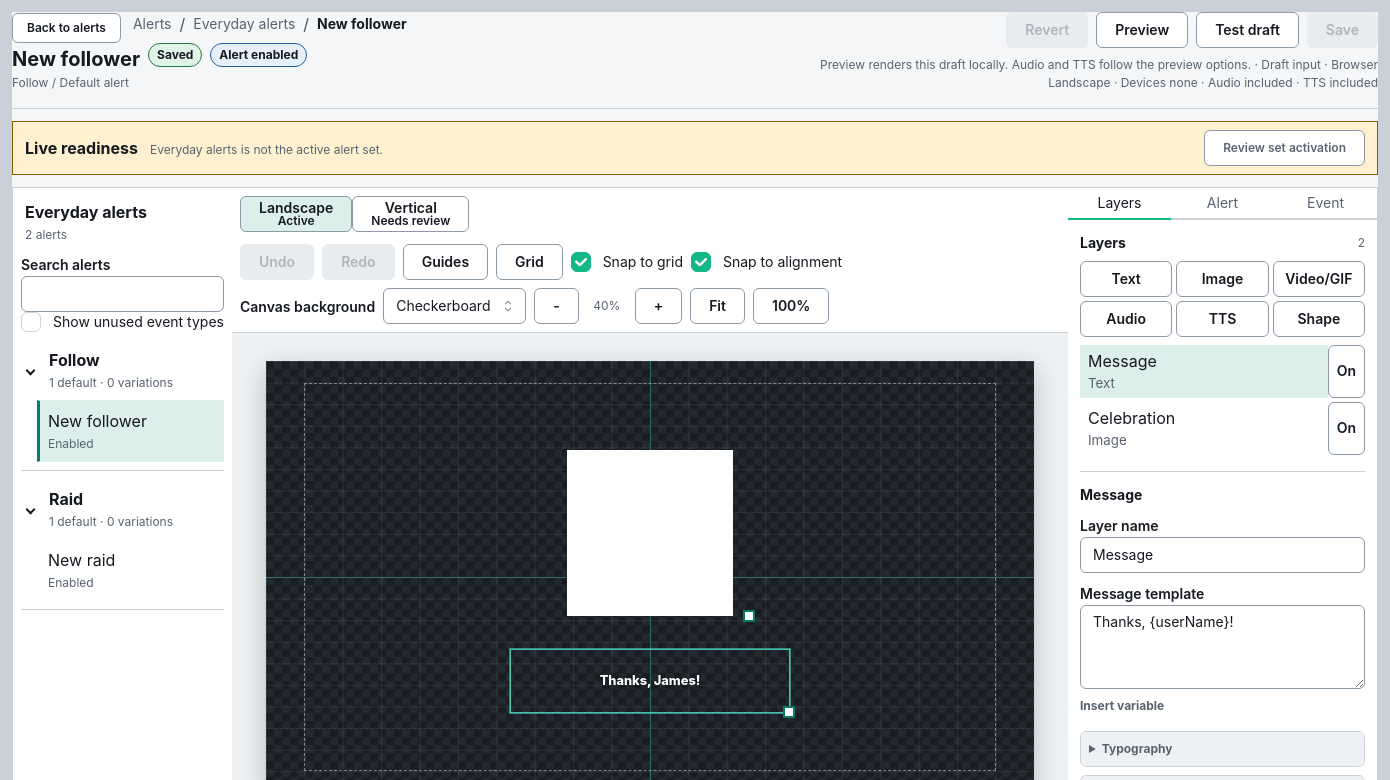
Test: AlertEditorPage › records the displayed generated reference once for a page failure
Replace the text in the text box labelled "Message template" with "Retained diagnostic draft": {"x": 1222, "y": 647} [1080,605,1365,689]
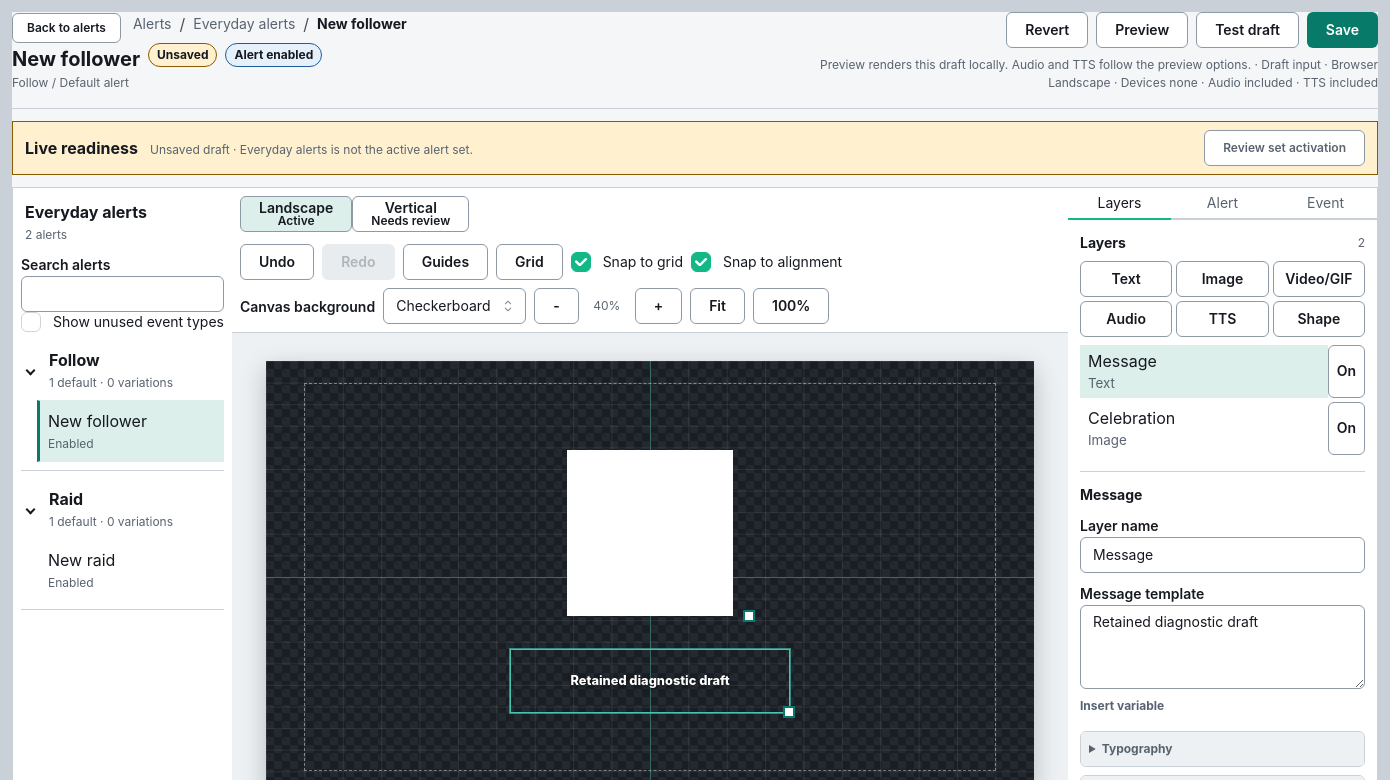
Click the button "Save": {"x": 1342, "y": 30} [1307,12,1378,48]
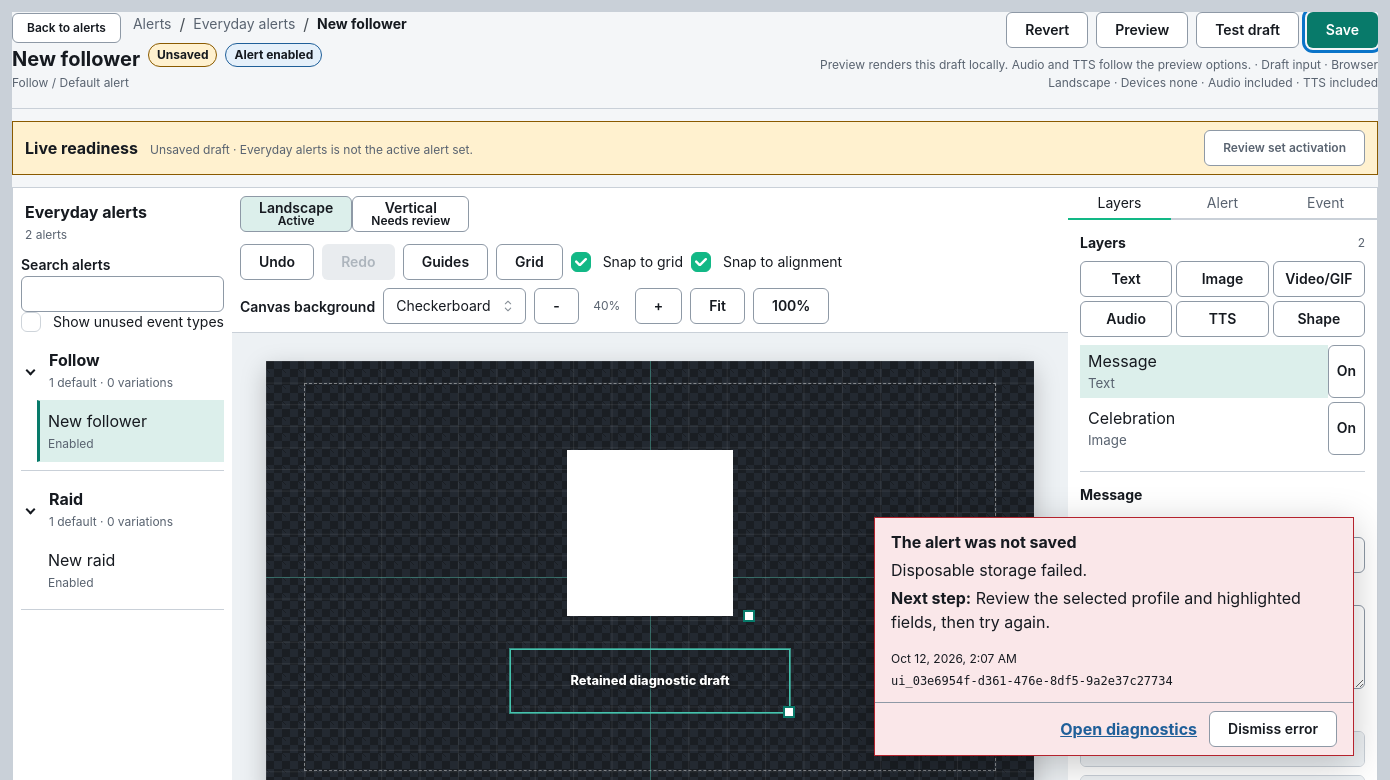
Expected: the number of messages is 1, [875,518,1353,702]
